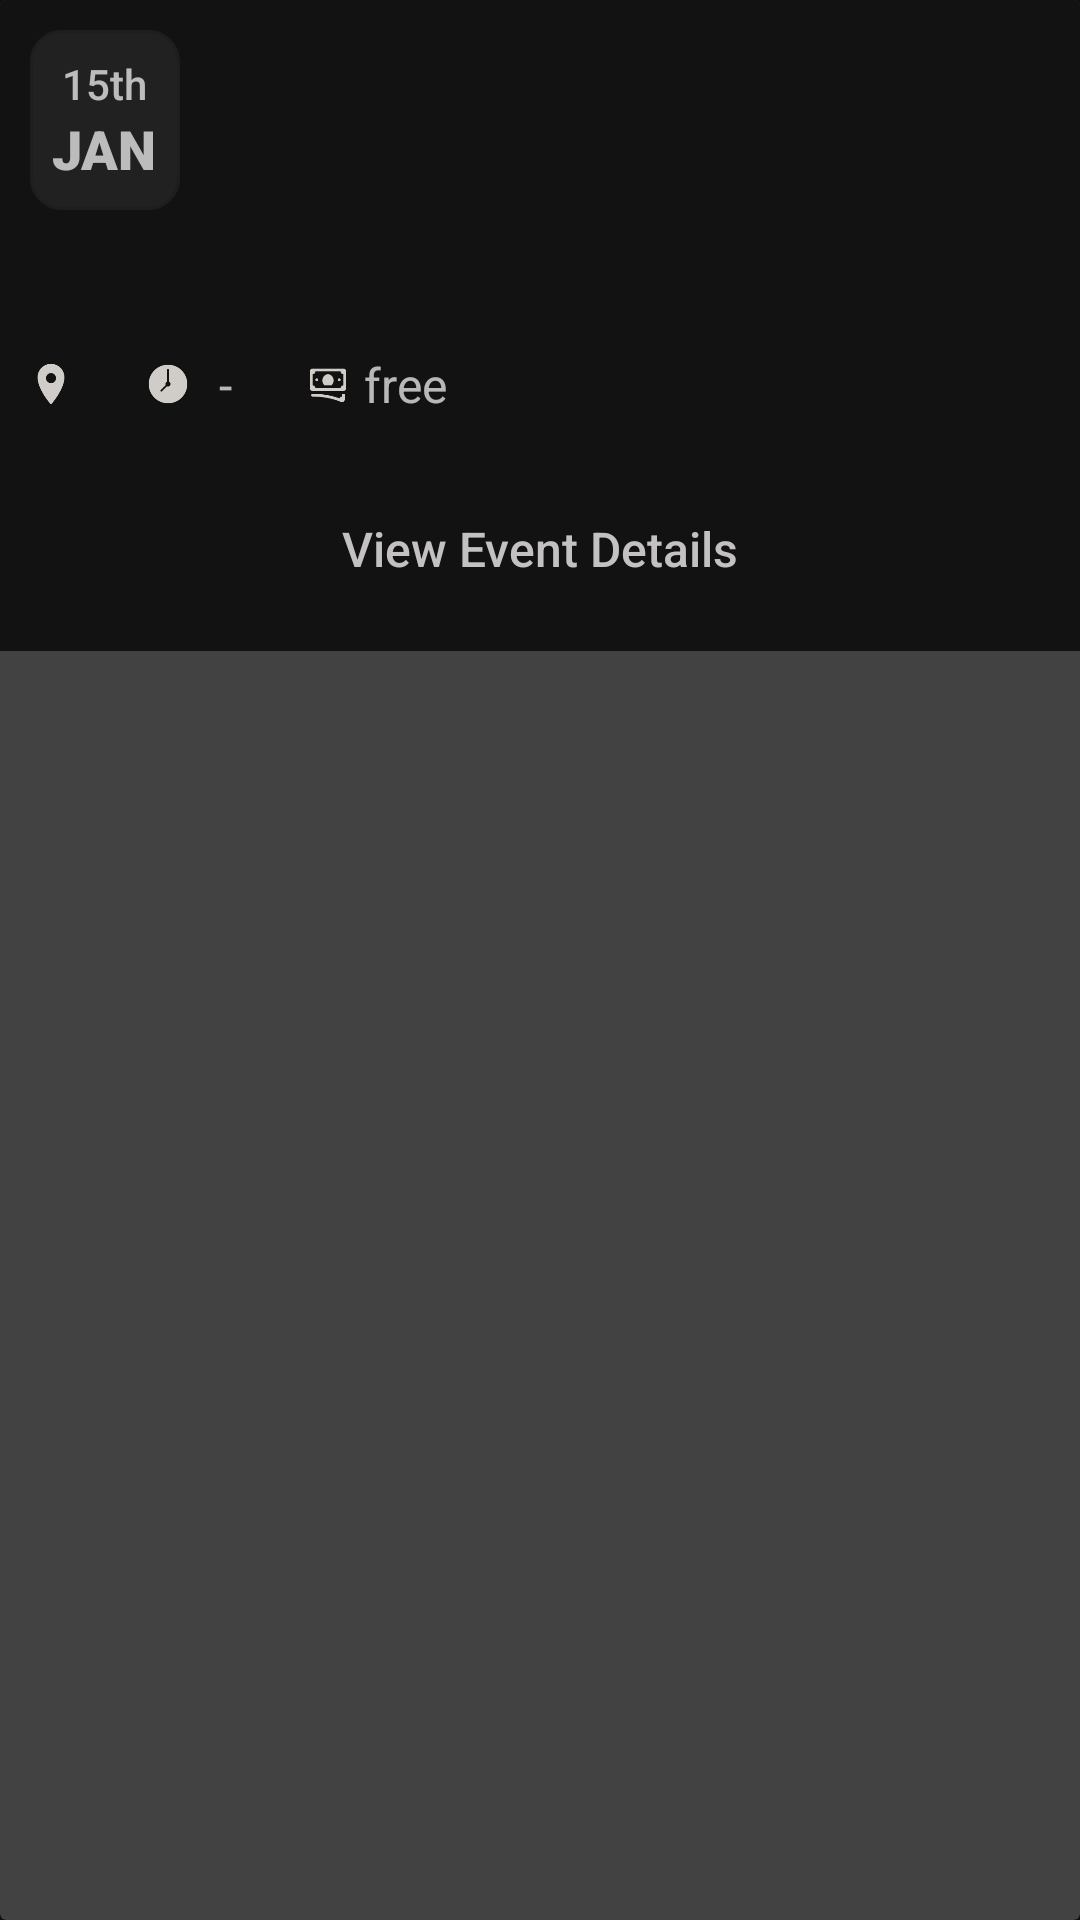

Where icons sit on this 1080 x 1920 app screen, as (x1, y1, x2, y2):
clock: (149, 365, 187, 403)
location: (37, 364, 65, 404)
money: (310, 368, 346, 402)
